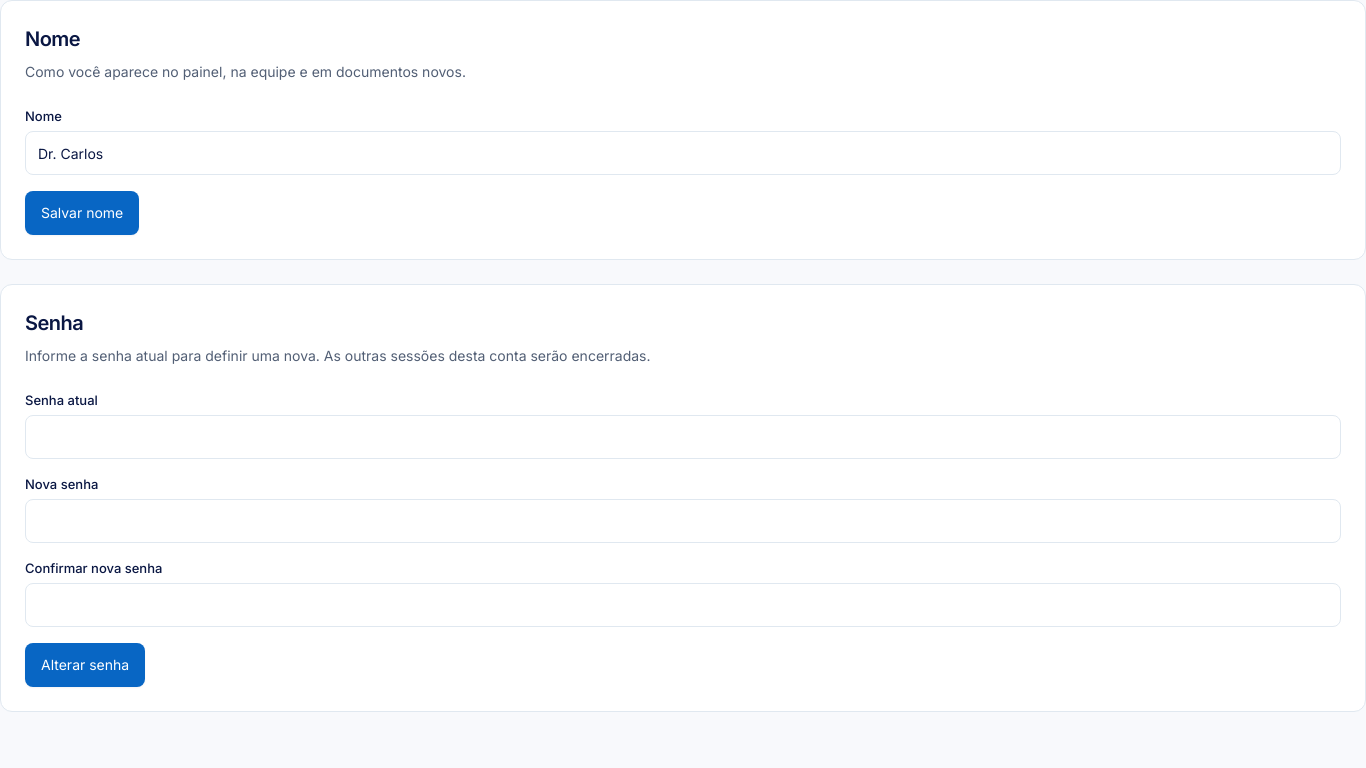
ContaConfigTab › mostra erro claro quando a senha atual está incorreta
Type "errada123" into the password field labelled "Senha atual" at (683, 437), box [25, 415, 1341, 459]
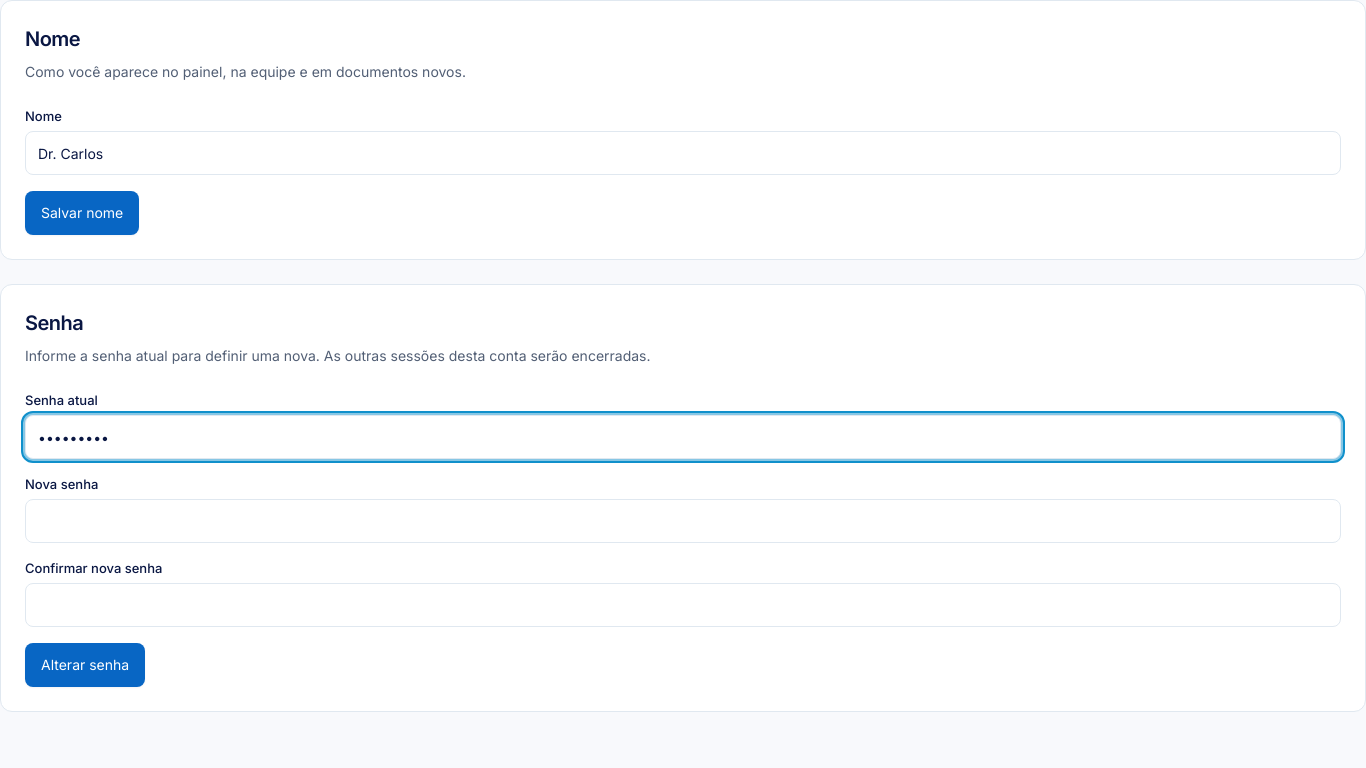
Type "novaSenha1" into the password field labelled "Nova senha" at (683, 521), box [25, 499, 1341, 543]
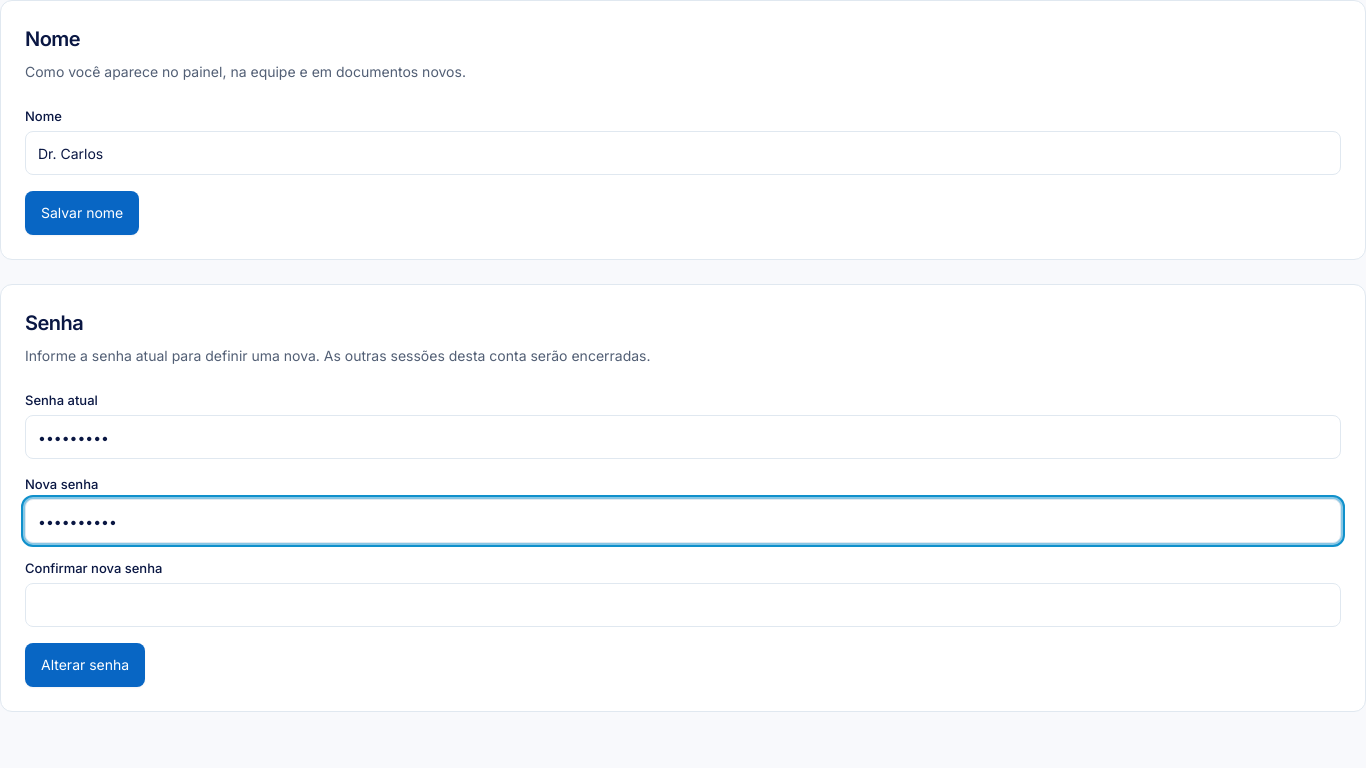
Type "novaSenha1" into the password field labelled "Confirmar nova senha" at (683, 605), box [25, 583, 1341, 627]
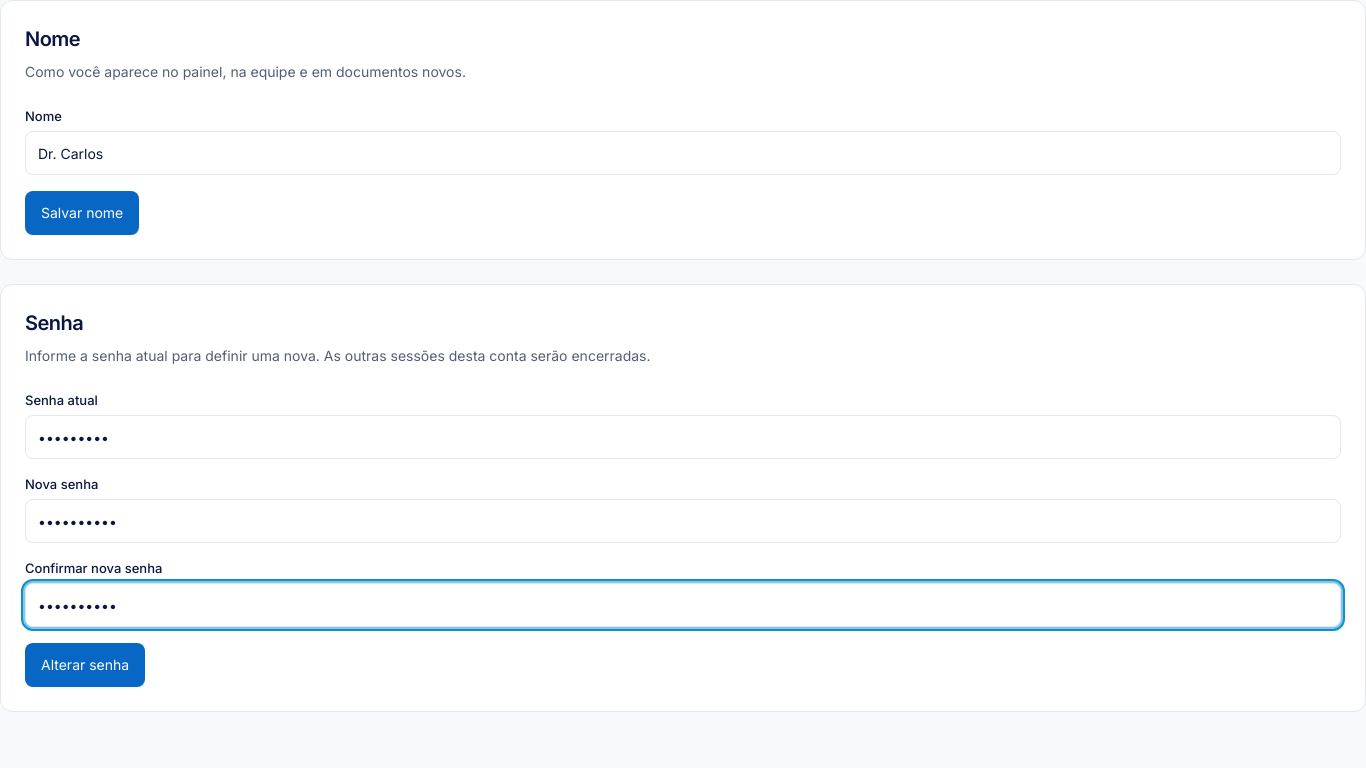
Click the button "Alterar senha" at (85, 665), box [25, 643, 145, 687]
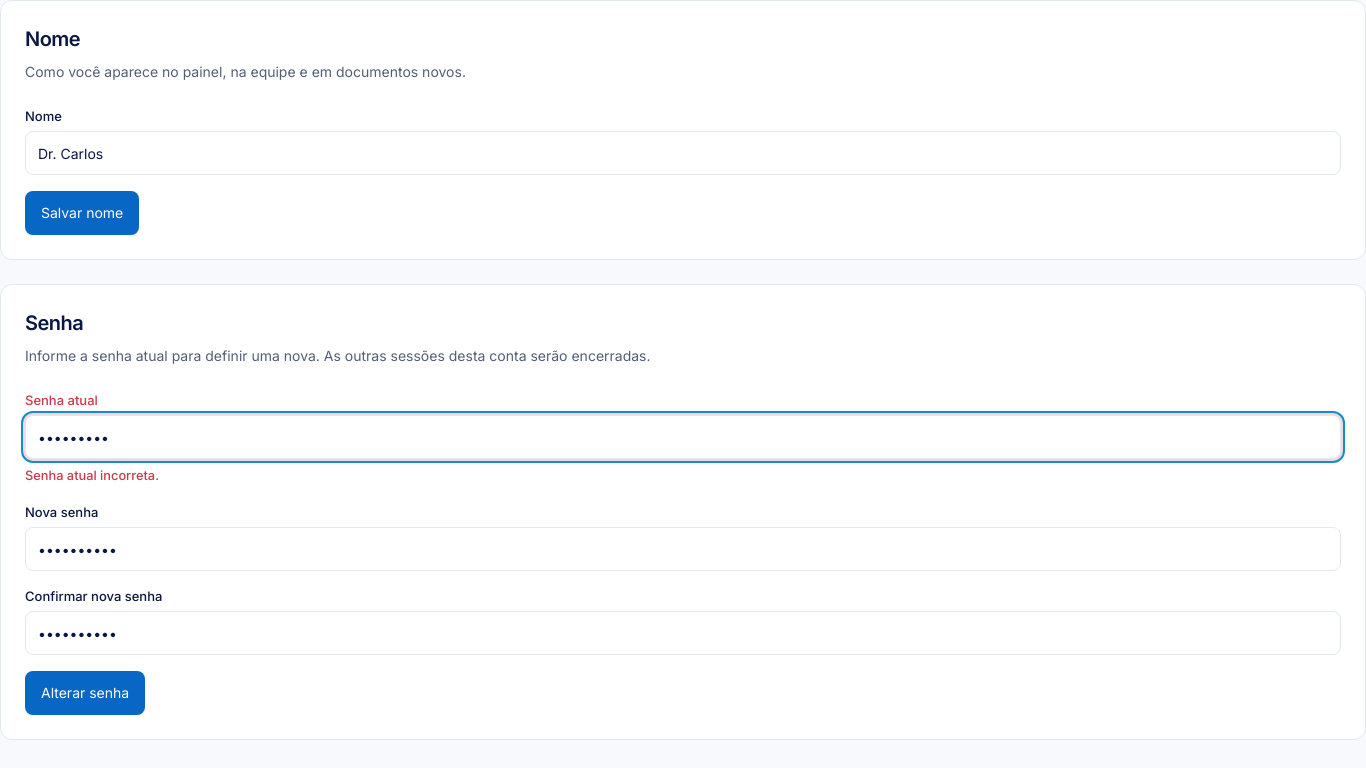
Expected: the text "Senha atual incorreta." is shown, [25, 468, 159, 483]
